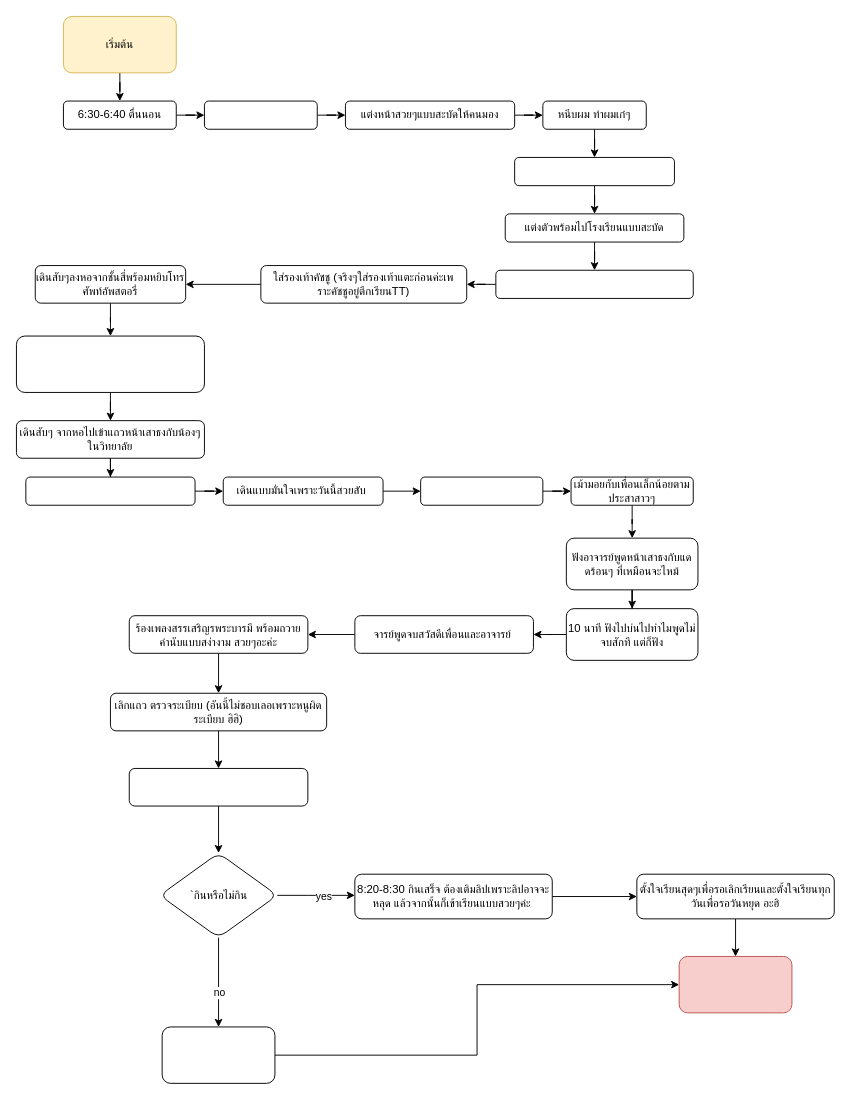
This 851x1100 diagram has some shape labels left out. Each missing label, with the centre of its shape:
7:40 เดินลงแถวเคารพธงชาติ: point (110, 490)
รีดเสื้อ รีดกระโปรงนักศึกษา: point (594, 171)
ร้องเพลงชาติ ท่องบลาๆของวิทยาลัย: point (481, 490)
สิ้นสุด: point (735, 984)
อัพสตอรี่ไอจีเพราะวันนี้แต่งหน้าสวยมากขนตายาวสะบัด (ขอยาดเช็คเรตติ้งค่ะ): point (110, 363)
อาบน้ำ ทำธุระส่วนตัว: point (260, 114)
เข้าเรียน: point (218, 1054)
เตรียมหนังสือและโน้ตบุ๊ค // พร้อมไปเรียน: point (594, 283)
เลิกแถวเลิกตรวจเดินไปซื้ออาหารเช้ามากินหน้าห้องเรียน: point (218, 787)
